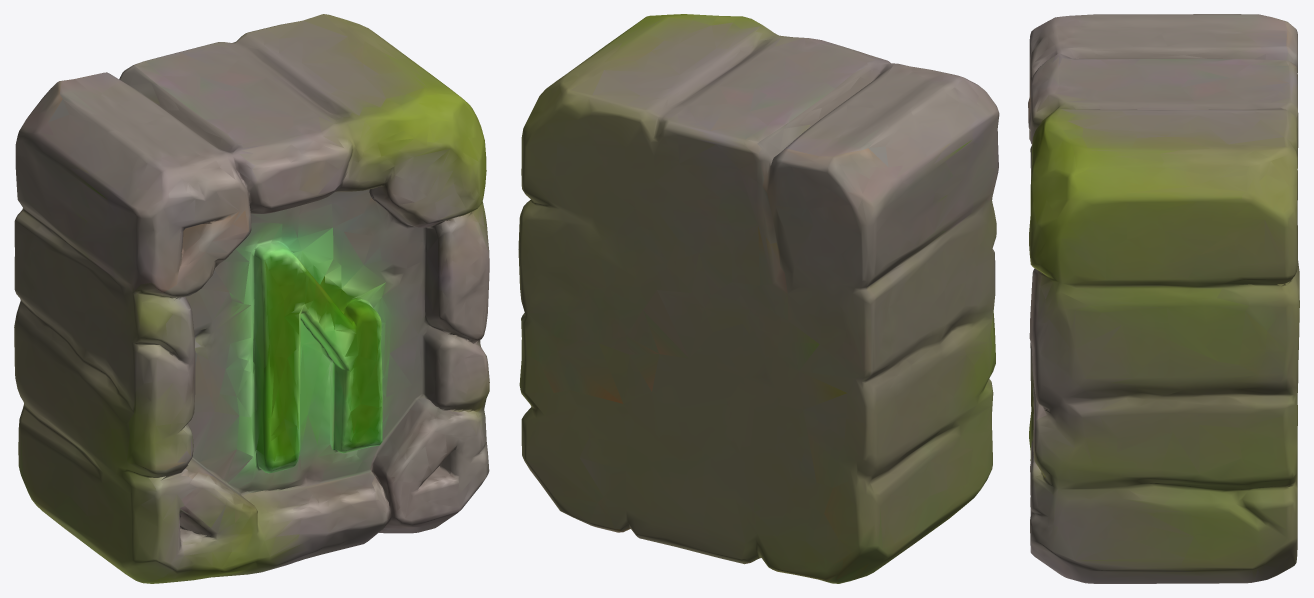
The model's file is bloque_runa_verde.glb.
3 renders of one model, left to right at view 1: azimuth 30°, elevation 25°; view 2: azimuth 150°, elevation 25°; view 3: azimuth 270°, elevation 25°, orthographic.
Parts seen in each view (by area): view 1: bloque_runa_verde_malla; view 2: bloque_runa_verde_malla; view 3: bloque_runa_verde_malla.
Part boxes in pixels (x1,y1,x2,y2): bloque_runa_verde_malla: (14,14,489,583); bloque_runa_verde_malla: (518,14,999,583); bloque_runa_verde_malla: (1028,14,1299,583).
Size of the model in its own units: 0.1545 by 0.1776 by 0.1016.
Materials: 1 (1 with a texture image).
